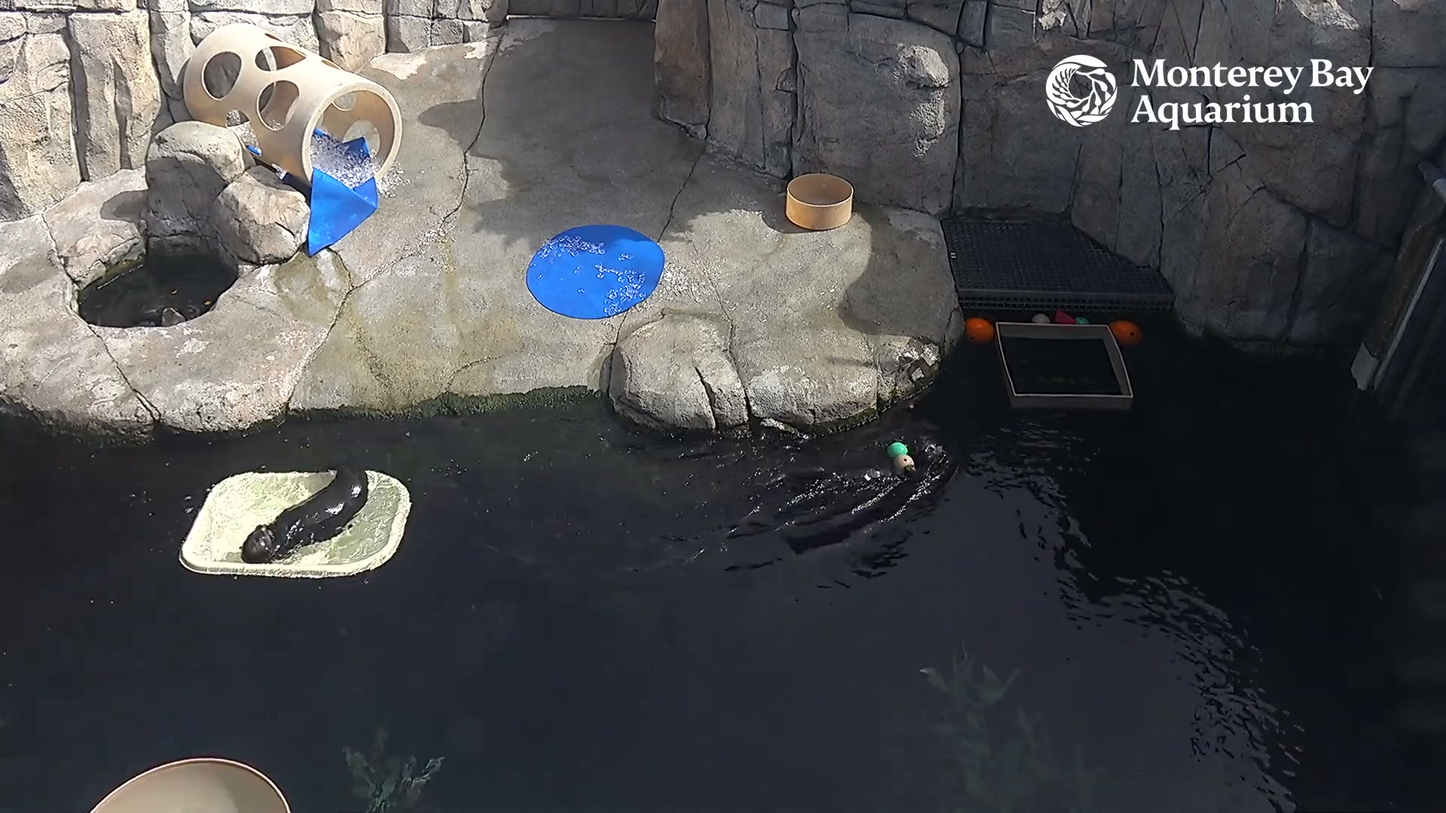Southern Sea Otter: (749, 426, 971, 562), (217, 449, 388, 567)
